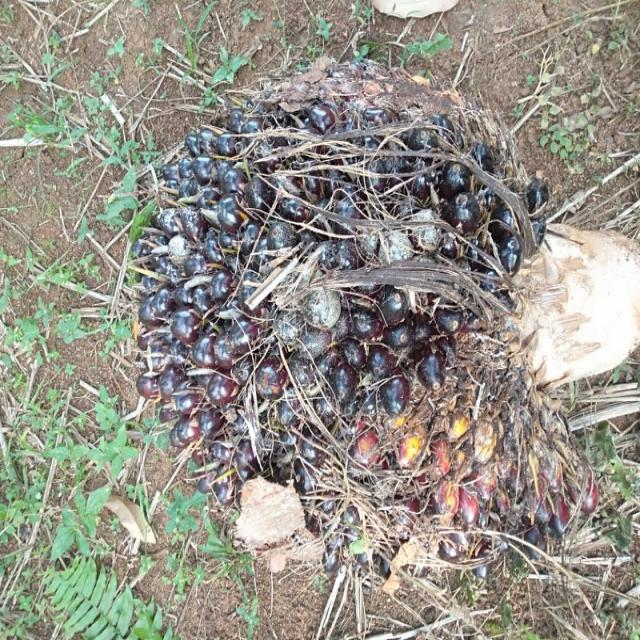fraksi 00: (70, 33, 587, 618)
